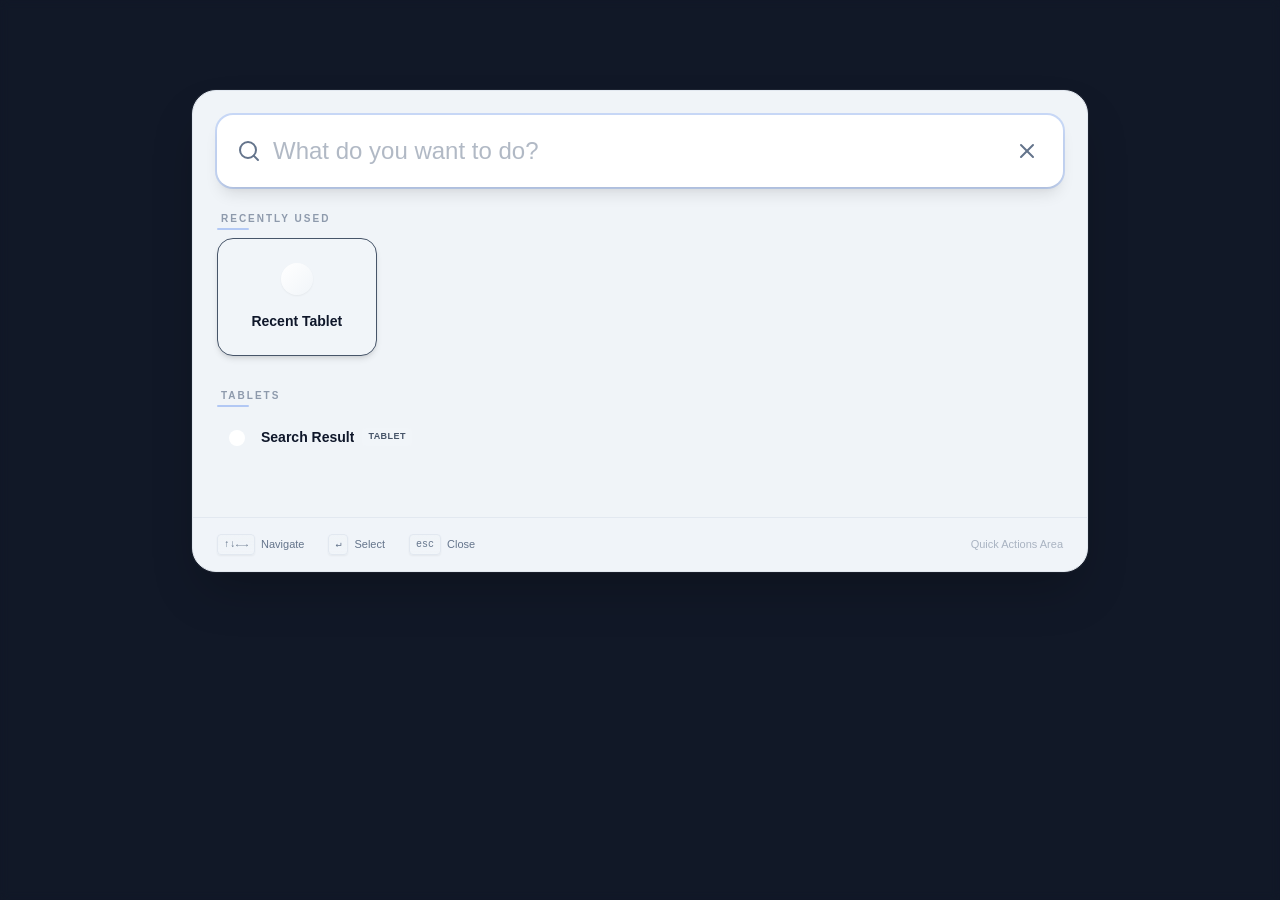
Test: ToolSelectorModal › switches to list view when searching
This screenshot has width=1280, height=900.
Type "search" into the field with placeholder "What do you want to do?".
click(640, 151); type("search")  # box [217, 115, 1063, 187]
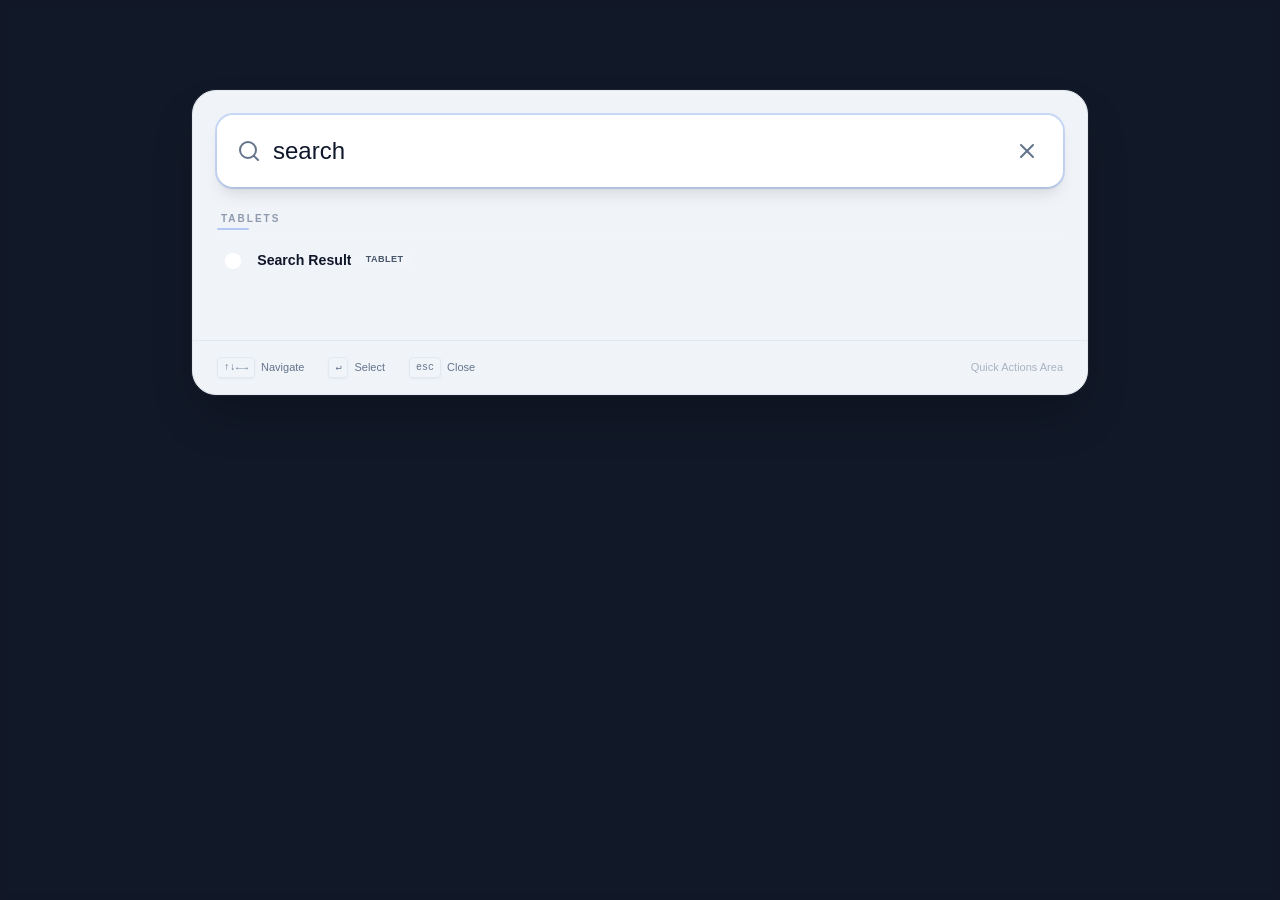
expect the text "Search Result" is shown: met, box [257, 250, 352, 270]
expect the heading "Recently Used" is gone: met
